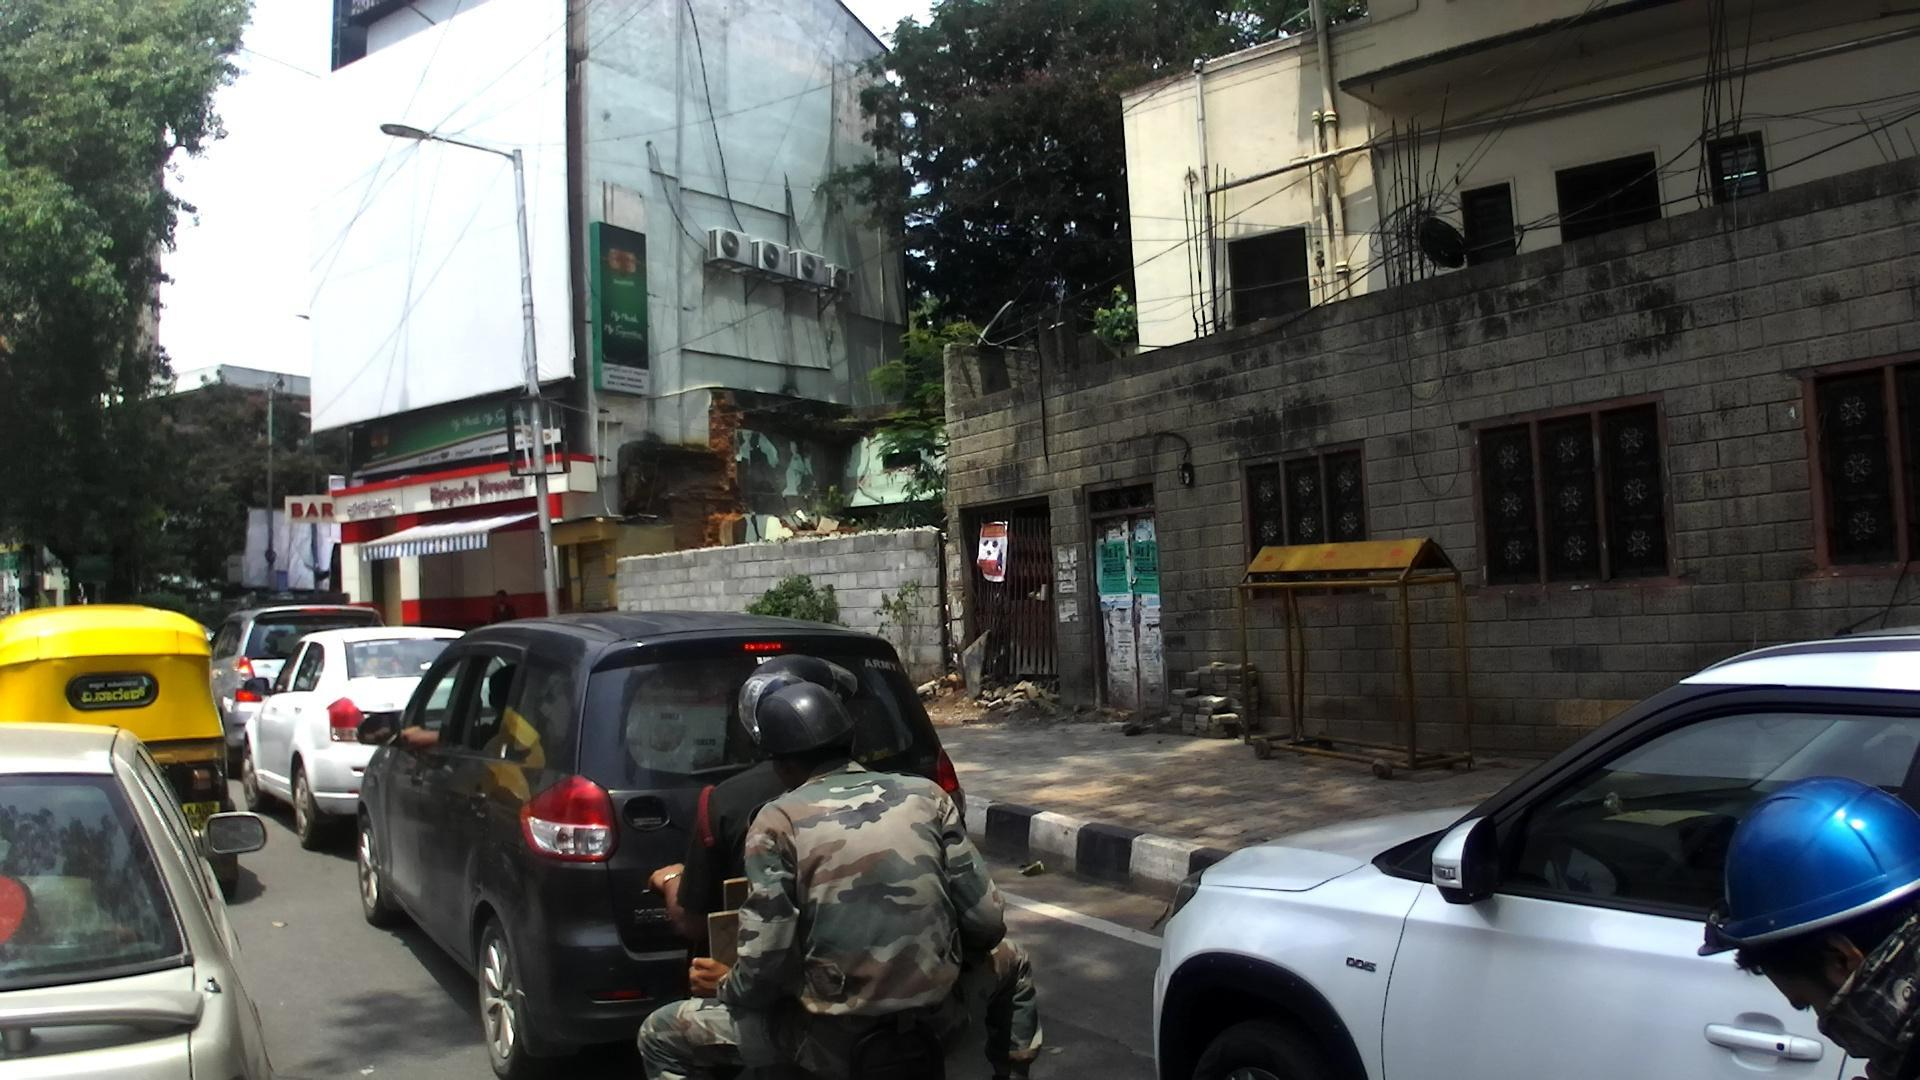off: (90, 0, 1830, 1080)
